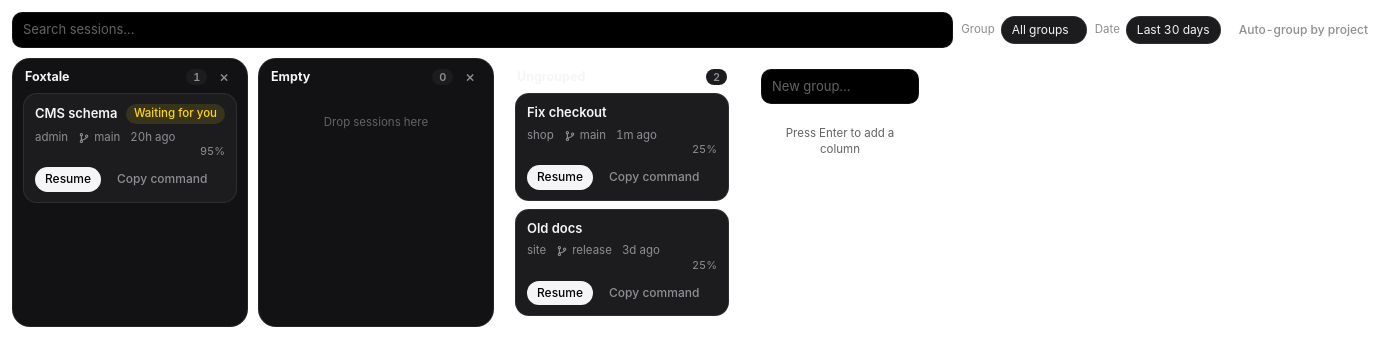
filter by date
Select "Today" in the dropdown labelled "Date" at [1173, 30], box 1126,16 -> 1221,44
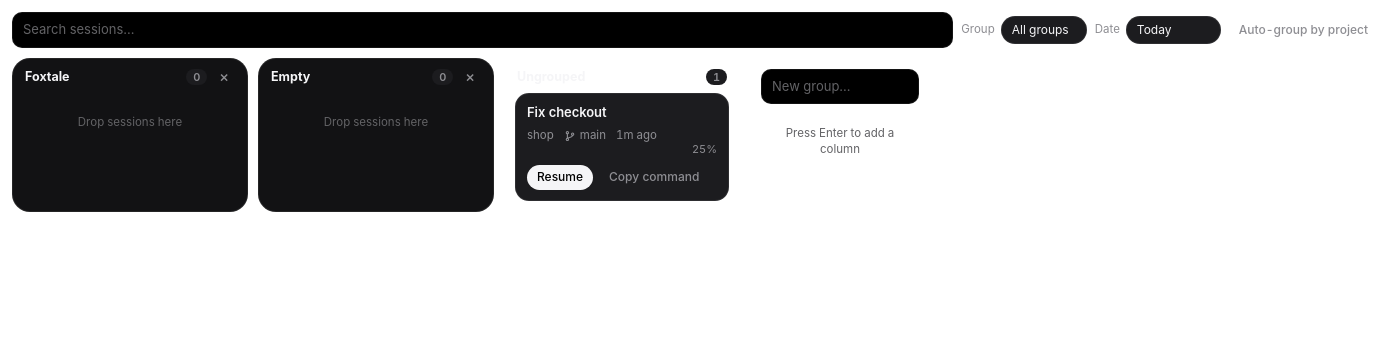
Check: the text "Fix checkout" is shown, box 527,104 -> 606,122
Check: the text "CMS schema" is gone
Select "Yesterday" in the dropdown labelled "Date" at [1173, 30], box 1126,16 -> 1221,44
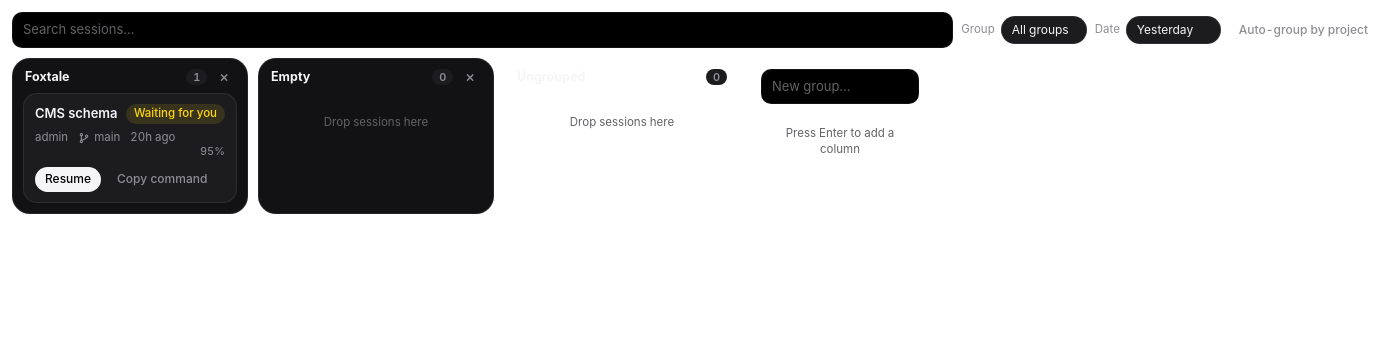
Check: the text "CMS schema" is shown, box 35,105 -> 117,123
Check: the text "Fix checkout" is gone
Select "Last 7 days" in the dropdown labelled "Date" at [1173, 30], box 1126,16 -> 1221,44
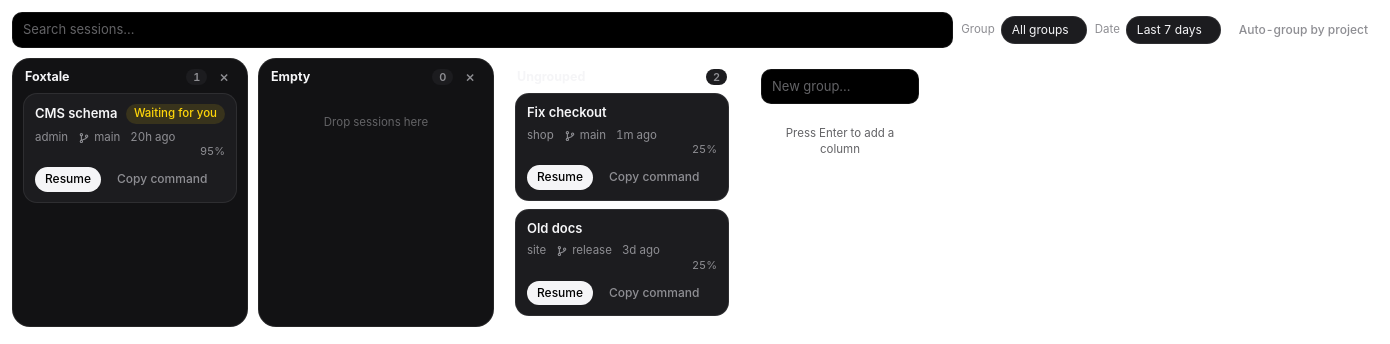
Check: the text "Old docs" is shown, box 527,220 -> 582,237
